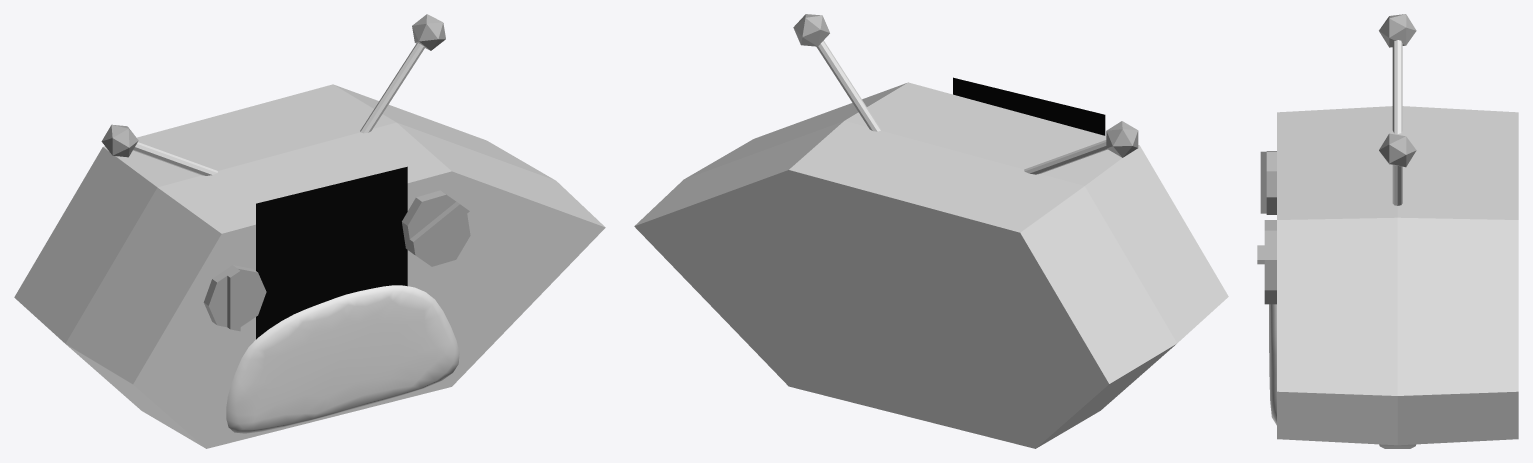
Rendered from gak_radio.dae.
The picture shows the model from 3 angles, left to right: view 1: azimuth 30°, elevation 25°; view 2: azimuth 150°, elevation 25°; view 3: azimuth 270°, elevation 25°; orthographic projection.
Visible parts, largest first — view 1: Cube, Cube.002, Plane, Cylinder.003, Cylinder.002, Cylinder.001, Cylinder; view 2: Cube, Plane, Cylinder.001, Cylinder; view 3: Cube, Cylinder, Cylinder.001, Cylinder.003, Cylinder.002, Cube.002.
Boxes of the visible parts, box(x1,y1,x2,y2) form: Cube: box(14, 84, 605, 448); Cube.002: box(226, 285, 459, 433); Plane: box(256, 166, 407, 339); Cylinder.003: box(402, 190, 470, 266); Cylinder.002: box(203, 265, 266, 331); Cylinder.001: box(360, 14, 445, 133); Cylinder: box(101, 124, 217, 175); Cube: box(634, 82, 1228, 448); Plane: box(953, 77, 1105, 135); Cylinder.001: box(793, 14, 880, 131); Cylinder: box(1024, 121, 1138, 174); Cube: box(1277, 106, 1518, 445); Cylinder: box(1379, 14, 1416, 133); Cylinder.001: box(1379, 133, 1416, 205); Cylinder.003: box(1257, 220, 1276, 304); Cylinder.002: box(1260, 151, 1276, 214); Cube.002: box(1269, 304, 1276, 425).
Bounding box in the file's own units: 3.25 × 1.47 × 2.25.
6 materials, 1 textured.
